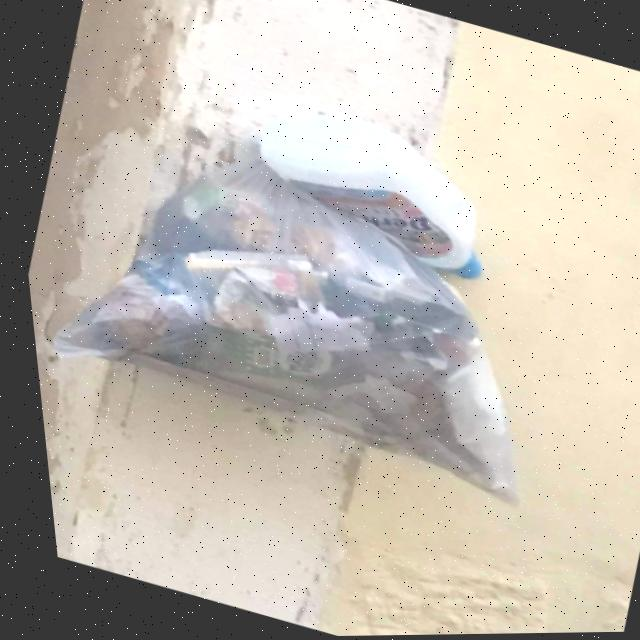Other: (234, 99, 511, 289)
Recycled Waste -Grey or Green Bag-: (14, 89, 597, 518)
